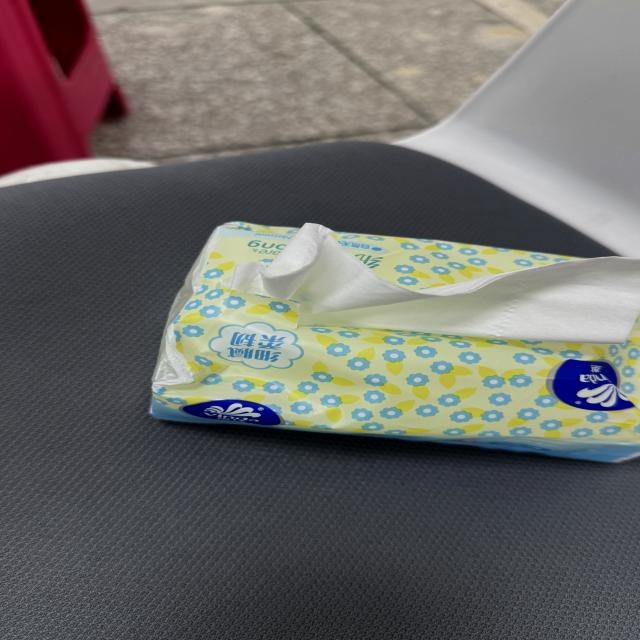tissue: (152, 223, 639, 461), (226, 224, 639, 343)
